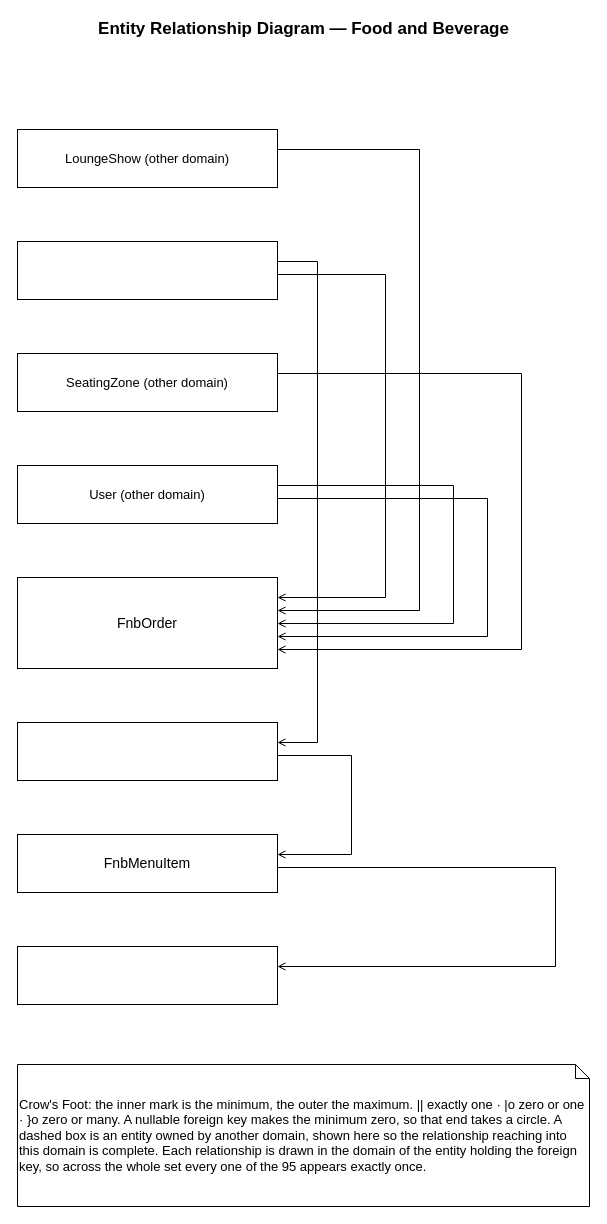
Some shapes in this 607 by 1224 pixel diagram are drawn without their labels. Here are the shapes that lost their labels. From the top down, the box of each, then its label:
(16, 240, 278, 300): MusicLounge (other domain)
(16, 722, 278, 780): FnbMenu
(16, 946, 278, 1004): OrderItem
